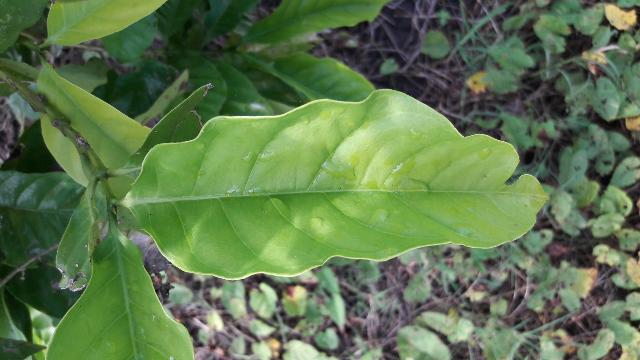healthy: (127, 88, 541, 278)
